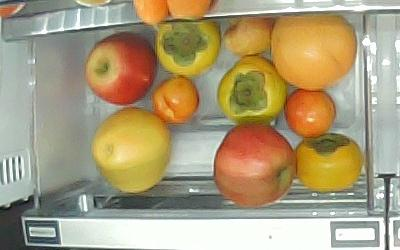apple: (213, 122, 296, 209), (83, 33, 154, 107)
grapefruit: (91, 106, 171, 195), (271, 13, 357, 92)
persimmon: (217, 55, 286, 124), (293, 133, 360, 193), (155, 20, 220, 76)
prune: (283, 89, 335, 137), (151, 76, 199, 124), (224, 17, 274, 55)
